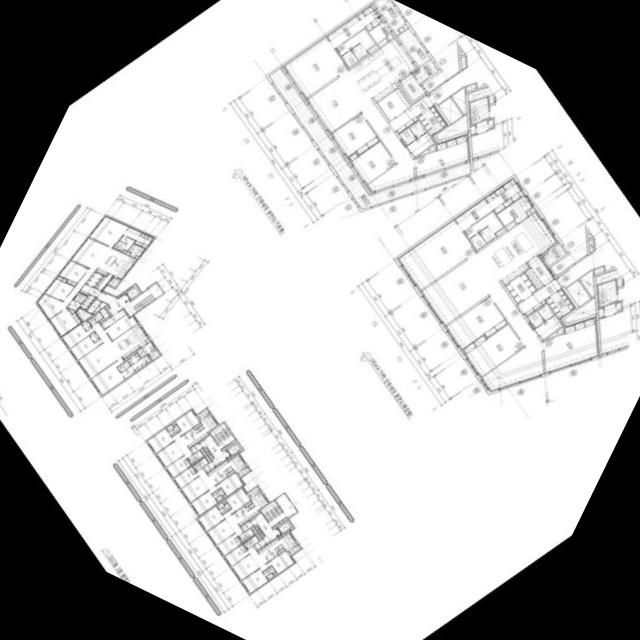background: (0, 0, 640, 640)
space_balconi: (268, 68, 470, 209), (397, 28, 429, 67), (373, 0, 404, 35), (147, 349, 159, 360), (107, 277, 120, 287)
space_bedroom: (396, 219, 475, 291), (282, 36, 347, 98), (444, 297, 507, 350), (460, 324, 523, 377), (543, 316, 598, 373), (415, 133, 469, 178), (346, 141, 395, 185), (330, 114, 379, 157), (90, 358, 124, 396), (88, 216, 128, 247), (376, 88, 410, 121), (48, 308, 81, 337), (104, 314, 137, 340), (61, 324, 94, 349), (69, 336, 102, 360), (43, 275, 73, 301), (58, 260, 87, 286), (174, 409, 199, 436), (197, 506, 224, 531), (240, 569, 267, 594), (190, 491, 217, 516), (225, 487, 250, 514), (146, 428, 173, 453), (266, 550, 294, 574), (215, 472, 243, 496), (216, 533, 241, 556), (173, 466, 198, 489), (223, 544, 248, 567), (165, 455, 190, 478), (81, 320, 91, 331), (89, 332, 99, 342)
space_dressroom: (484, 177, 524, 214), (326, 15, 363, 48), (454, 198, 491, 230), (356, 4, 382, 31), (133, 232, 154, 248), (131, 355, 150, 371), (127, 353, 140, 365)
space_elevator: (225, 442, 242, 458), (124, 284, 140, 300), (276, 520, 292, 536)
space_elevator_hall: (250, 493, 296, 543), (96, 282, 162, 316), (199, 435, 234, 465)
space_front: (387, 94, 433, 133), (517, 278, 561, 316), (417, 105, 447, 136), (545, 288, 575, 319), (100, 309, 125, 329), (79, 284, 100, 297), (78, 294, 95, 310), (85, 272, 102, 287), (253, 539, 266, 551), (202, 461, 215, 473), (240, 520, 252, 532), (189, 442, 201, 454)
space_kitchen: (477, 211, 557, 285), (348, 37, 416, 102), (111, 323, 148, 359), (231, 491, 268, 526), (180, 413, 217, 448), (257, 532, 297, 563), (95, 249, 136, 279), (207, 454, 246, 485)
space_living_room: (420, 252, 543, 392), (305, 70, 413, 193), (36, 238, 111, 319), (77, 322, 121, 379), (180, 468, 216, 503), (230, 546, 267, 580), (206, 511, 243, 545), (155, 433, 192, 467)
space_multipurpose_space: (496, 195, 532, 226), (368, 21, 394, 43)
space_other: (557, 238, 615, 288), (429, 56, 487, 105), (524, 255, 554, 290), (504, 273, 535, 303), (563, 297, 595, 323), (435, 114, 467, 140), (399, 74, 424, 101), (437, 97, 462, 124), (565, 280, 590, 307), (451, 87, 466, 115), (579, 270, 594, 297), (136, 341, 155, 358), (495, 221, 515, 236), (367, 38, 387, 53), (94, 274, 112, 290), (127, 244, 145, 257), (545, 327, 563, 339), (417, 144, 434, 156), (86, 299, 100, 313), (77, 309, 92, 321), (92, 302, 106, 314), (98, 308, 109, 322), (272, 518, 286, 528), (221, 440, 235, 450), (124, 352, 136, 361), (593, 266, 603, 274), (526, 207, 535, 215), (398, 24, 407, 32), (460, 56, 465, 70), (465, 84, 475, 91), (588, 239, 593, 253), (199, 448, 206, 456), (204, 455, 211, 462), (250, 526, 256, 534), (276, 548, 284, 554), (121, 250, 130, 255), (244, 501, 251, 507), (255, 533, 261, 540), (226, 470, 233, 476), (193, 423, 200, 429), (116, 293, 123, 298), (67, 308, 74, 313), (145, 338, 150, 343), (104, 305, 109, 309), (254, 525, 258, 530), (204, 447, 208, 452), (206, 451, 210, 455), (257, 529, 261, 533), (209, 455, 213, 459), (171, 421, 175, 425), (273, 573, 277, 576), (222, 499, 225, 503), (134, 256, 138, 259), (222, 495, 226, 498), (260, 533, 263, 537), (227, 457, 230, 460), (278, 535, 280, 537)
space_outdoor_room: (541, 243, 566, 266), (413, 60, 438, 83), (196, 409, 209, 420), (287, 545, 300, 556), (237, 466, 249, 477), (247, 486, 259, 497)
space_staircase: (209, 423, 231, 444), (260, 501, 282, 522), (132, 294, 154, 312)
space_toilet: (463, 212, 502, 250), (335, 29, 374, 67), (406, 132, 433, 157), (535, 315, 561, 339), (113, 235, 134, 251), (527, 311, 544, 328), (399, 128, 416, 145), (408, 121, 425, 138), (537, 304, 553, 321), (123, 226, 141, 240), (192, 457, 208, 471), (187, 450, 203, 464), (243, 535, 258, 549), (238, 528, 253, 542), (87, 312, 102, 326), (120, 366, 134, 378), (67, 300, 80, 311), (219, 502, 230, 514), (168, 424, 179, 436), (211, 488, 224, 498), (262, 566, 275, 576), (121, 360, 130, 369), (77, 294, 86, 303), (73, 293, 82, 301), (117, 364, 125, 372), (216, 503, 224, 510), (265, 573, 273, 580), (165, 425, 173, 432), (215, 495, 222, 502)
